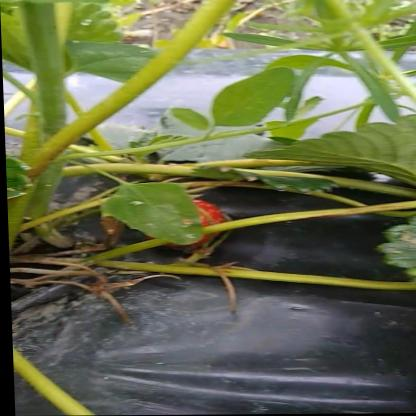ripe: (127, 195, 234, 256)
